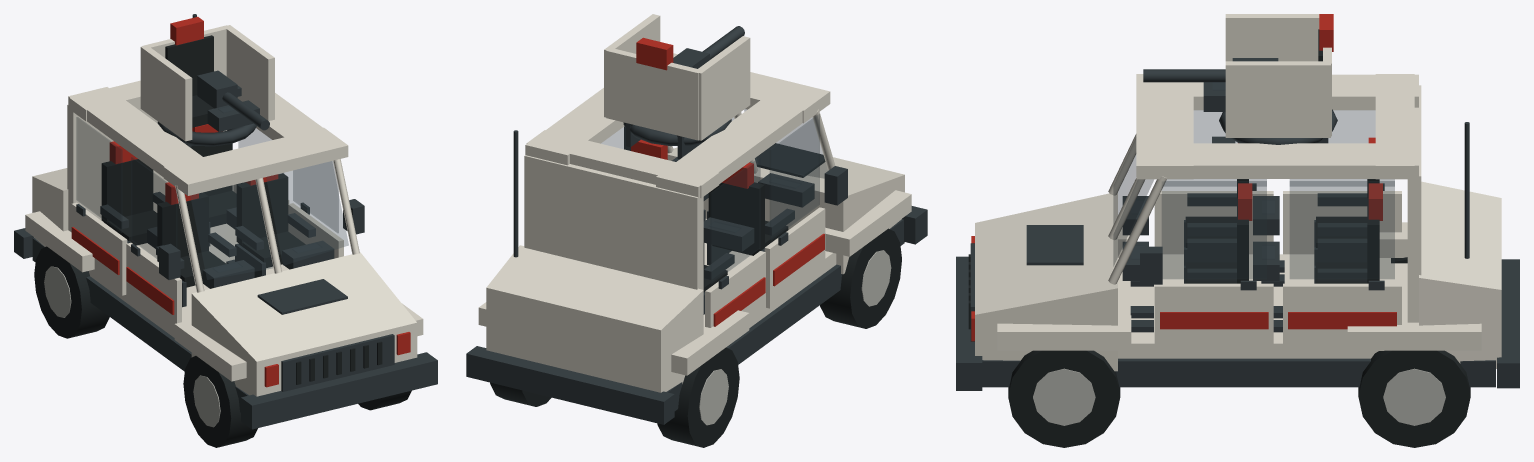
The picture shows the model from 3 angles, left to right: view 1: azimuth 30°, elevation 25°; view 2: azimuth 150°, elevation 25°; view 3: azimuth 270°, elevation 25°; orthographic projection. The views are drawn at different scales.
Visible parts, largest first — view 1: humvee-fleet-armor, humvee-fleet-glass, humvee-fleet-machine, turret-fleet-armor, crew-chair-passenger-painted, crew-chair-driver-painted, crew-chair-rear-left-painted, crew-chair-gunner-painted, wheel--1--1.54-fleet-rubber, wheel--1-1.52-fleet-rubber, humvee-fleet-red, barrel-fleet-machine (+6 smaller); view 2: humvee-fleet-armor, humvee-fleet-machine, turret-fleet-armor, humvee-fleet-glass, crew-chair-driver-painted, wheel--1-1.52-fleet-rubber, wheel--1--1.54-fleet-rubber, crew-chair-rear-left-painted, humvee-fleet-red, crew-chair-gunner-painted, wheel--1--1.54-fleet-edge, wheel--1-1.52-fleet-edge (+4 smaller); view 3: humvee-fleet-armor, humvee-fleet-glass, humvee-fleet-machine, turret-fleet-armor, wheel-1--1.54-fleet-rubber, wheel-1-1.52-fleet-rubber, crew-chair-rear-right-painted, crew-chair-passenger-painted, crew-chair-rear-left-painted, humvee-fleet-red, crew-chair-driver-painted, wheel-1-1.52-fleet-edge (+4 smaller).
Part boxes in pixels (x1,y1,x2,y2): humvee-fleet-armor: (25,80,423,396); humvee-fleet-glass: (76,117,348,279); humvee-fleet-machine: (14,14,437,429); turret-fleet-armor: (140,25,274,141); crew-chair-passenger-painted: (235,173,334,277); crew-chair-driver-painted: (156,182,254,307); crew-chair-rear-left-painted: (100,141,165,248); crew-chair-gunner-painted: (165,16,259,146); wheel--1--1.54-fleet-rubber: (34,246,109,338); wheel--1-1.52-fleet-rubber: (183,356,257,447); humvee-fleet-red: (71,227,410,387); barrel-fleet-machine: (197,70,269,130); humvee-fleet-armor: (478,53,911,392); humvee-fleet-machine: (466,126,927,424); turret-fleet-armor: (604,14,750,140); humvee-fleet-glass: (601,109,827,283); crew-chair-driver-painted: (707,162,814,265); wheel--1-1.52-fleet-rubber: (820,228,901,328); wheel--1--1.54-fleet-rubber: (657,347,739,447); crew-chair-rear-left-painted: (703,217,754,314); humvee-fleet-red: (713,233,824,326); crew-chair-gunner-painted: (626,37,701,159); wheel--1--1.54-fleet-edge: (699,369,728,425); wheel--1-1.52-fleet-edge: (861,250,891,306); humvee-fleet-armor: (975,74,1501,371); humvee-fleet-glass: (1113,110,1394,278); humvee-fleet-machine: (956,122,1519,390); turret-fleet-armor: (1225,14,1331,137); wheel-1--1.54-fleet-rubber: (1358,350,1470,447); wheel-1-1.52-fleet-rubber: (1008,350,1120,447); crew-chair-rear-right-painted: (1253,183,1382,332); crew-chair-passenger-painted: (1122,183,1252,332); crew-chair-rear-left-painted: (1253,137,1379,286); humvee-fleet-red: (971,236,1396,341); crew-chair-driver-painted: (1122,143,1248,286); wheel-1-1.52-fleet-edge: (1033,368,1095,425).
Size of the model in its own units: 12.64 by 19.62 by 26.84.
